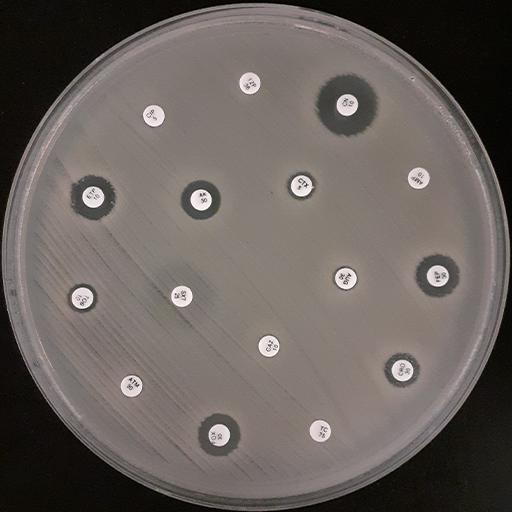disc: (238, 71, 262, 95), (335, 93, 359, 117), (207, 423, 231, 447), (142, 104, 166, 127), (81, 186, 105, 209), (189, 188, 213, 211), (290, 174, 314, 197), (407, 167, 431, 190), (426, 264, 450, 287), (170, 285, 194, 308), (70, 286, 94, 309), (257, 335, 281, 358), (334, 267, 357, 290), (120, 375, 143, 398), (391, 359, 414, 382), (309, 420, 332, 443)
